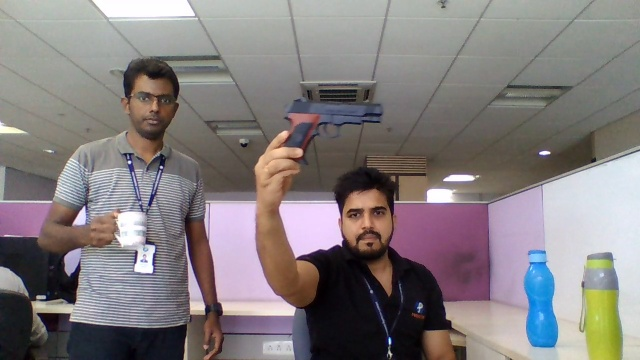gun: (284, 102, 381, 149)
